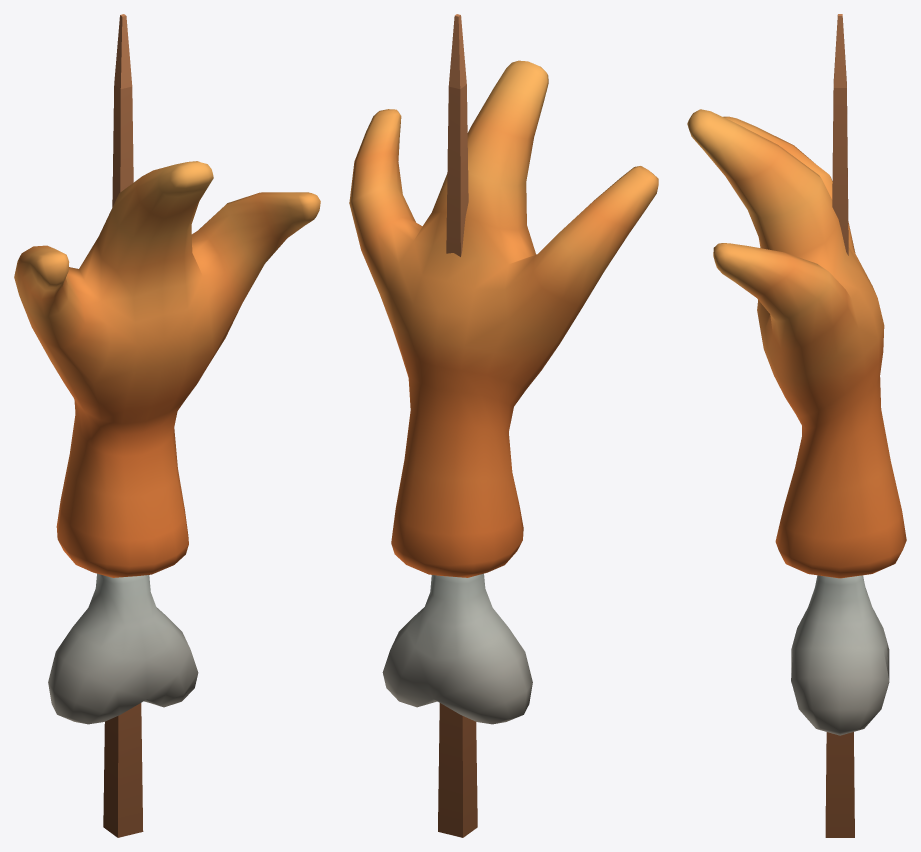
The model's file is lpb_food_adidas.fbx.
The picture shows the model from 3 angles, left to right: view 1: azimuth 30°, elevation 25°; view 2: azimuth 150°, elevation 25°; view 3: azimuth 270°, elevation 25°; orthographic projection.
Visible parts, largest first — view 1: adidas; view 2: adidas; view 3: adidas.
Boxes of the visible parts, x1,y1,x2,y2 form: adidas: (14, 14, 320, 837); adidas: (349, 14, 658, 837); adidas: (687, 14, 906, 837).
Bounding box in the file's own units: 21.78 × 59.99 × 14.61.
